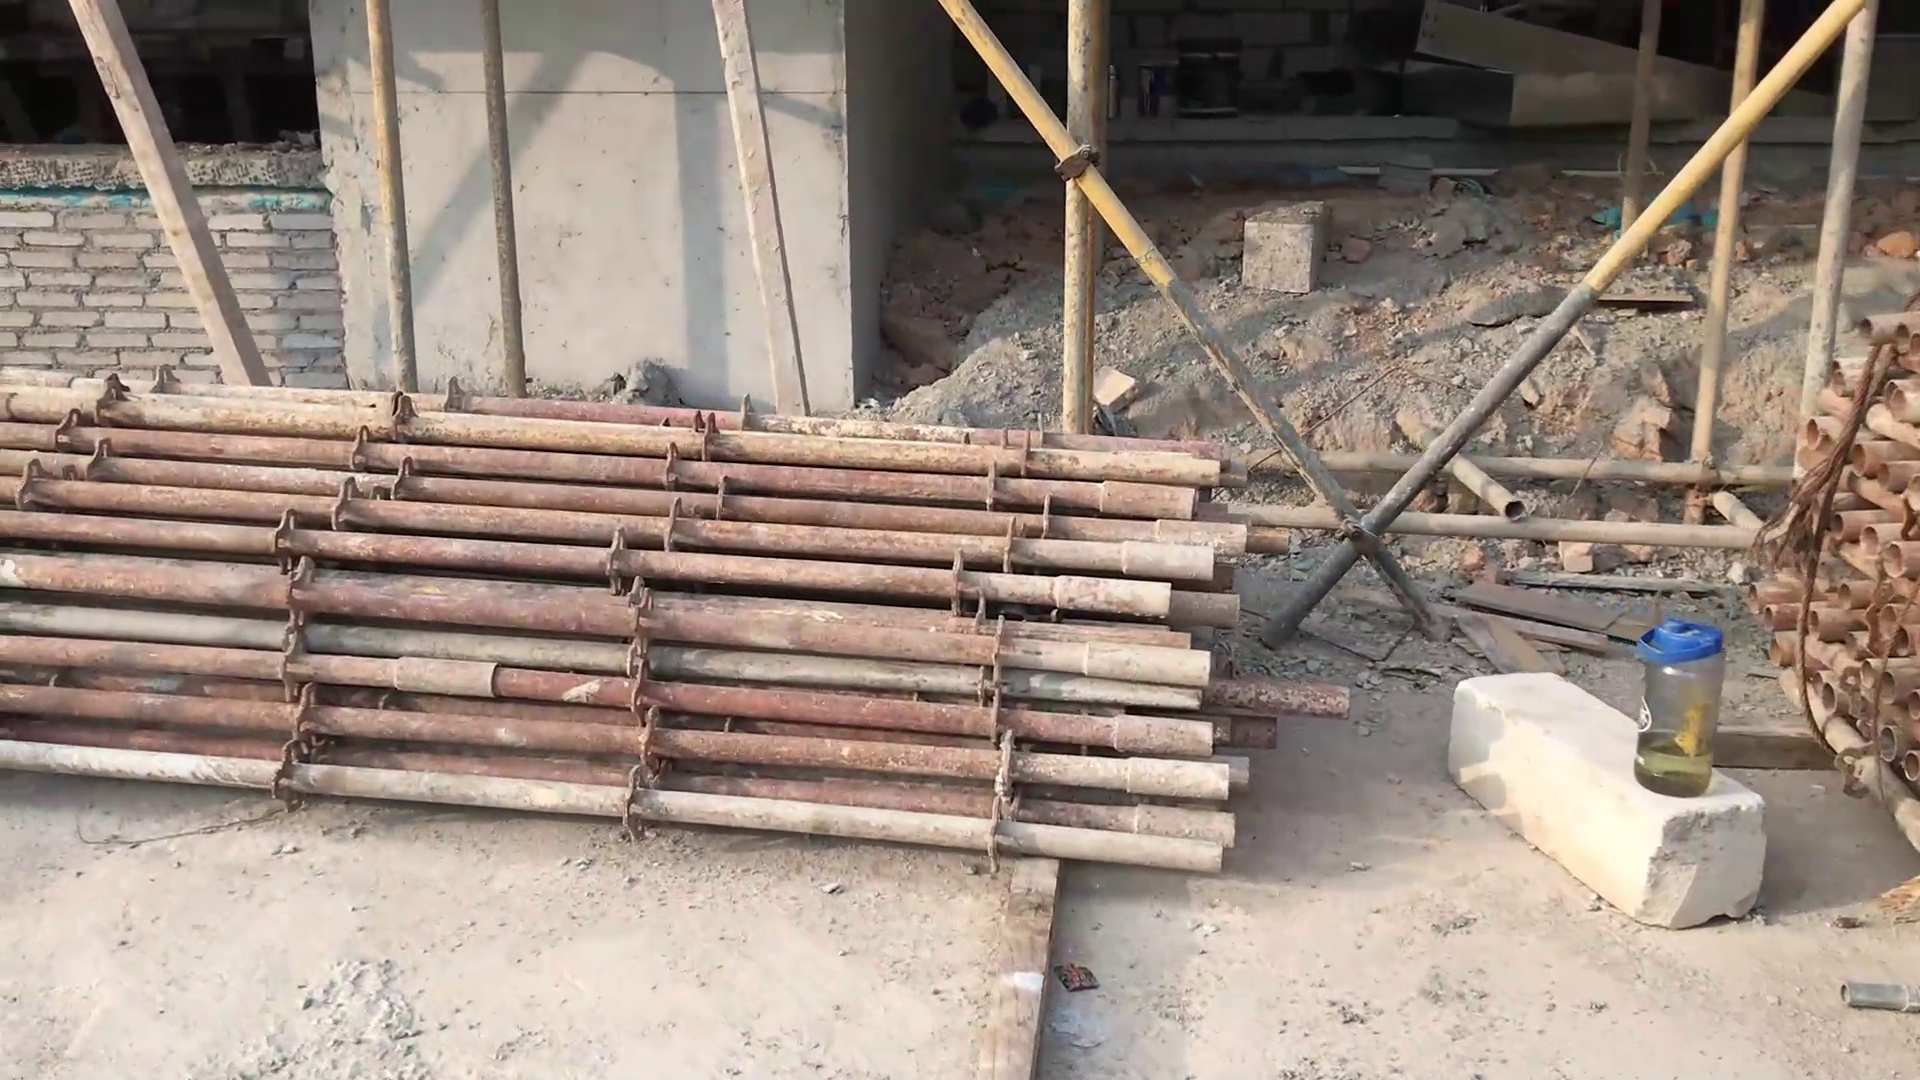scaffold: (1, 361, 1287, 873), (1764, 305, 1920, 786)
